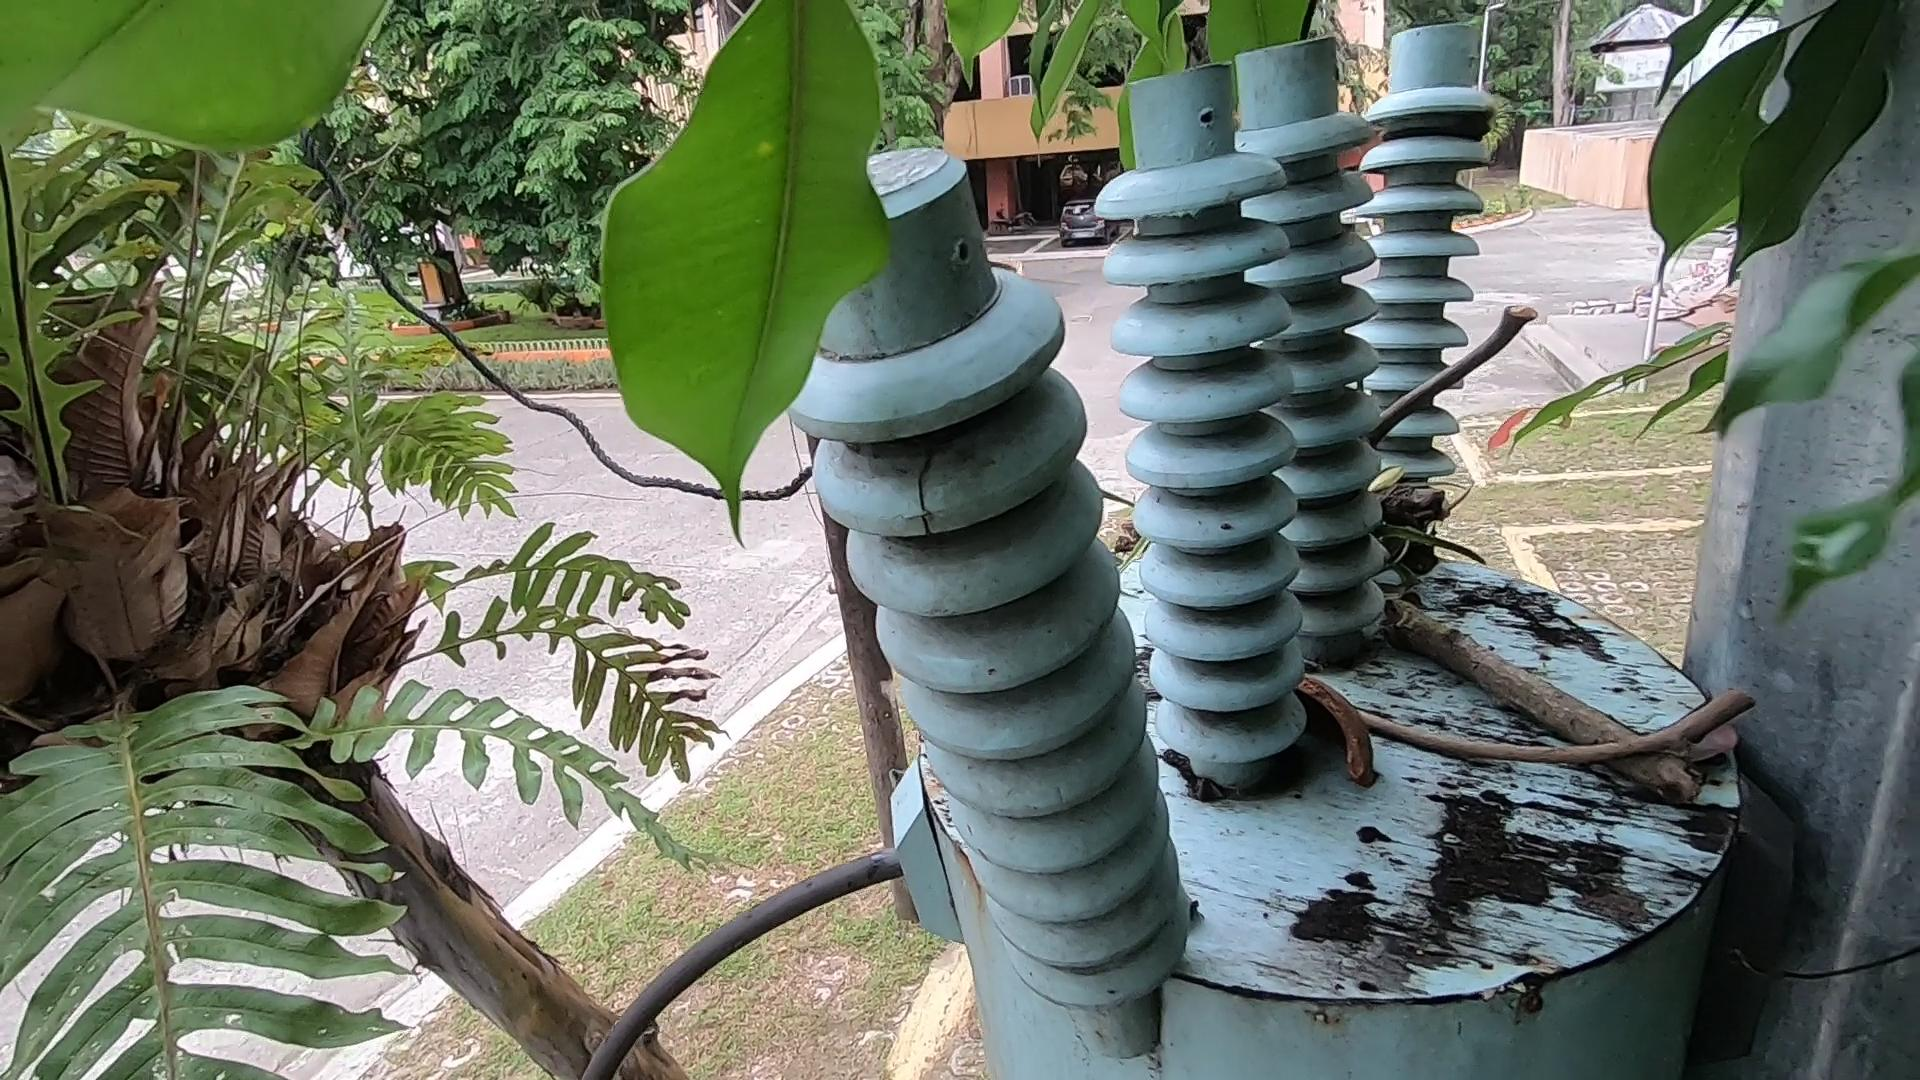branch with leaves: (1309, 324, 1869, 818)
leaf: (1673, 684, 1783, 794)
mahogany fruit: (1299, 655, 1393, 815)
tree branch: (1298, 208, 1626, 496), (1312, 653, 1811, 794)
